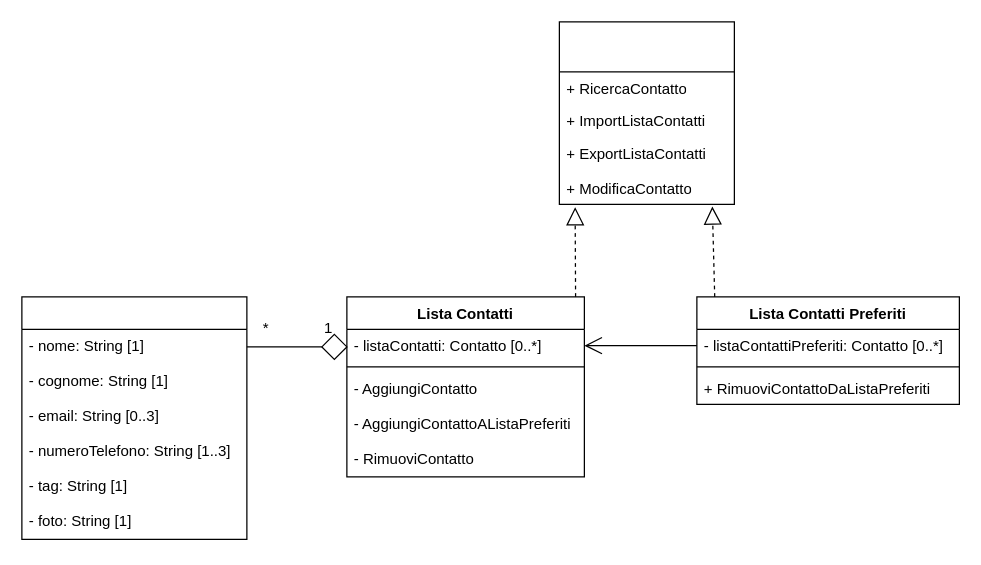
The diagram is 981 pixels wide and 565 high, and some of its shapes have lost their labels. The shapes that lost their labels are listed below. From the top down, each one's box as (x1, y1, x2, y2) in pixels, then its label:
(558, 21, 734, 204): «interface» OperazioniRubrica
(21, 296, 247, 539): Contatto
